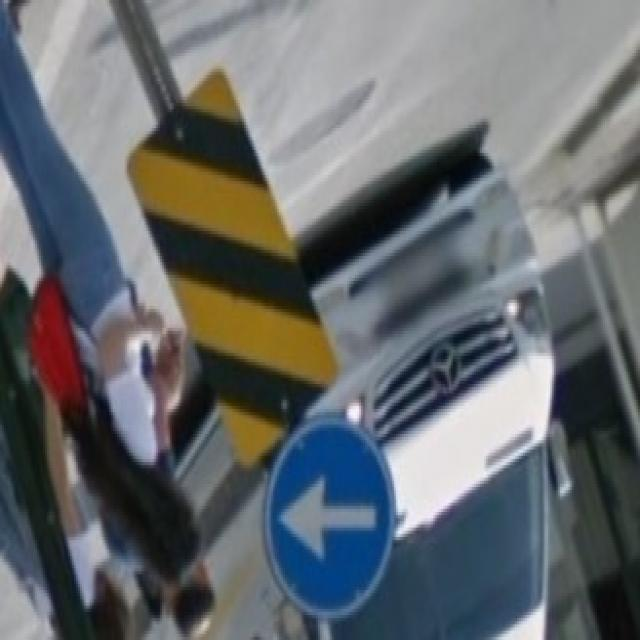Turn Left: (270, 421, 391, 617)
